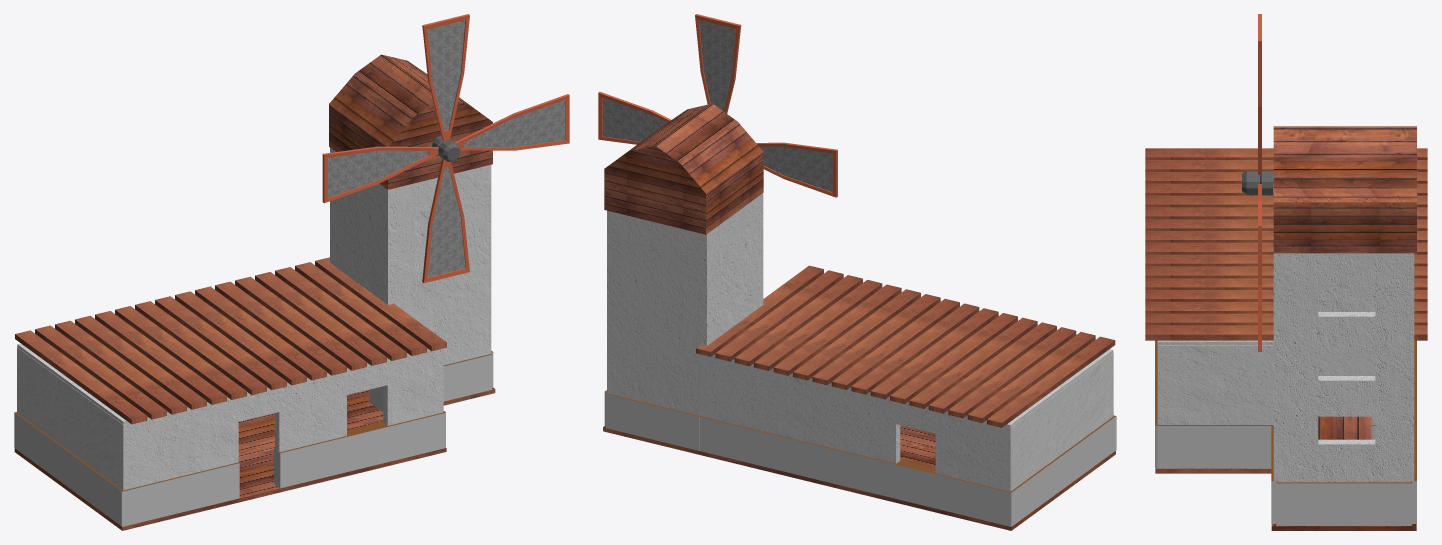
The model's file is Casa_Moinho_Vento.fbx.
The picture shows the model from 3 angles, left to right: view 1: azimuth 30°, elevation 25°; view 2: azimuth 150°, elevation 25°; view 3: azimuth 270°, elevation 25°; orthographic projection. The views are drawn at different scales.
Parts seen in each view (by area): view 1: Telhado, Parede.001, Parede_grande, Parede.003, Interior_Mecanismo, Elice, Elice_2, Apoio_Parede, Piso, Parede, Teto; view 2: Telhado, Parede.002, Parede_grande.001, Interior_Mecanismo, Parede.003, Apoio_Parede, Elice_2, Piso, Elice, Teto, Parede; view 3: Parede_grande.002, Telhado, Interior_Mecanismo, Parede, Piso, Parede_grande, Parede_grande.001, Apoio_Parede, Elice, Mecanismo_Elice, Teto, Elice_2.
Boxes of the visible parts, x1,y1,x2,y2 form: Telhado: (15, 257, 446, 424); Parede.001: (130, 350, 437, 524); Parede_grande: (395, 165, 492, 401); Parede.003: (14, 347, 133, 526); Interior_Mecanismo: (329, 54, 492, 189); Elice: (422, 14, 469, 283); Elice_2: (322, 94, 569, 203); Apoio_Parede: (330, 147, 395, 304); Piso: (14, 387, 495, 530); Parede: (369, 348, 445, 450); Teto: (17, 343, 429, 424); Telhado: (696, 265, 1115, 427); Parede.002: (704, 355, 1005, 525); Parede_grande.001: (605, 210, 699, 450); Interior_Mecanismo: (604, 103, 763, 234); Parede.003: (1000, 353, 1116, 526); Apoio_Parede: (700, 193, 763, 345); Elice_2: (598, 91, 837, 197); Piso: (603, 425, 1115, 530); Elice: (695, 14, 741, 113); Teto: (713, 349, 1113, 427); Parede: (697, 354, 708, 451); Parede_grande.002: (1276, 253, 1411, 525); Telhado: (1145, 148, 1427, 340); Interior_Mecanismo: (1273, 126, 1416, 253); Parede: (1155, 341, 1416, 468); Piso: (1155, 416, 1416, 530); Parede_grande: (1271, 253, 1277, 523); Parede_grande.001: (1410, 253, 1416, 523); Apoio_Parede: (1318, 289, 1375, 311); Elice: (1258, 14, 1261, 351); Mecanismo_Elice: (1242, 170, 1272, 195); Teto: (1158, 340, 1273, 345); Elice_2: (1258, 184, 1261, 284).
Size of the model in its own units: 1019 by 774 by 420.
